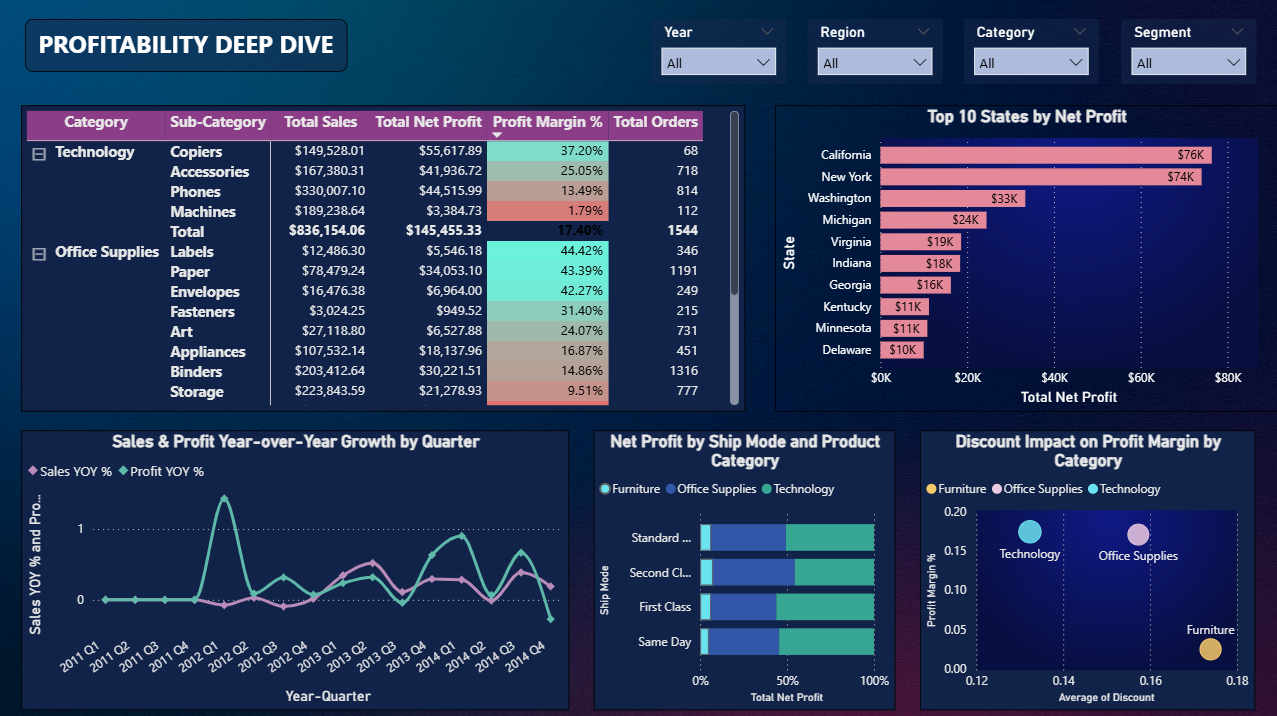

Layout of this report page (visuals, bound fields, positions):
{"tool":"powerbi","page":{"name":"Deep Dive Analysis","canvas":[1280,720],"ordinal":1},"visuals":[{"type":"slicer","fields":{"Values":["Date Table.Year"]},"box":[651.2,20.5,135,65.1],"z":1000},{"type":"slicer","fields":{"Values":["Superstore.Region"]},"box":[807.7,20.5,135.1,65.1],"z":2000},{"type":"slicer","fields":{"Values":["Superstore.Category"]},"box":[964.3,20.5,135,65.1],"z":3000},{"type":"slicer","fields":{"Values":["Superstore.Segment"]},"box":[1120.8,20.5,135.1,65.1],"z":4000},{"type":"pivotTable","fields":{"Rows":["Superstore.Category","Superstore.Sub-Category"],"Values":["_Measures.Total Sales","_Measures.Total Net Profit","_Measures.Profit Margin %","_Measures.Total Orders"]},"box":[21.7,106.2,723.9,306.4],"z":5000},{"type":"clusteredBarChart","title":"Top 10 States by Net Profit","fields":{"Category":["Superstore.State"],"Y":["_Measures.Total Net Profit"]},"box":[774.5,106.2,503.1,306.4],"z":6000},{"type":"scatterChart","title":"Discount Impact on Profit Margin by Category","fields":{"X":["Avg(Superstore.Discount)"],"Y":["_Measures.Profit Margin %"],"Size":["_Measures.Total Sales"],"Series":["Superstore.Category"]},"box":[920.5,430.7,335.4,279.9],"z":7000},{"type":"hundredPercentStackedBarChart","title":"Net Profit by Ship Mode and Product Category","fields":{"Category":["Superstore.Ship Mode"],"Series":["Superstore.Category"],"Y":["_Measures.Total Net Profit"]},"box":[594.2,430.7,301.6,279.9],"z":8000},{"type":"lineChart","title":"Sales & Profit Year-over-Year Growth by Quarter","fields":{"Category":["Date Table.Year-Quarter"],"Y":["_Measures.Sales YOY %","_Measures.Profit YOY %"]},"box":[21.7,430.7,547.7,279.9],"z":9000},{"type":"textbox","box":[25.3,20.5,322.1,53.1],"z":10000}]}

Visuals, with their boxes in screenshot pixels (x1, y1, x2, y2), scaled from the page's 1280x720 canvas onto the 1277x716 screenshot:
slicer - Date Table.Year: [650, 20, 784, 85]
slicer - Superstore.Region: [806, 20, 941, 85]
slicer - Superstore.Category: [962, 20, 1097, 85]
slicer - Superstore.Segment: [1118, 20, 1253, 85]
pivotTable - Superstore.Category x Superstore.Sub-Category: [22, 106, 744, 410]
"Top 10 States by Net Profit" clusteredBarChart: [773, 106, 1275, 410]
"Discount Impact on Profit Margin by Category" scatterChart: [918, 428, 1253, 707]
"Net Profit by Ship Mode and Product Category" hundredPercentStackedBarChart: [593, 428, 894, 707]
"Sales & Profit Year-over-Year Growth by Quarter" lineChart: [22, 428, 568, 707]
textbox: [25, 20, 347, 73]
